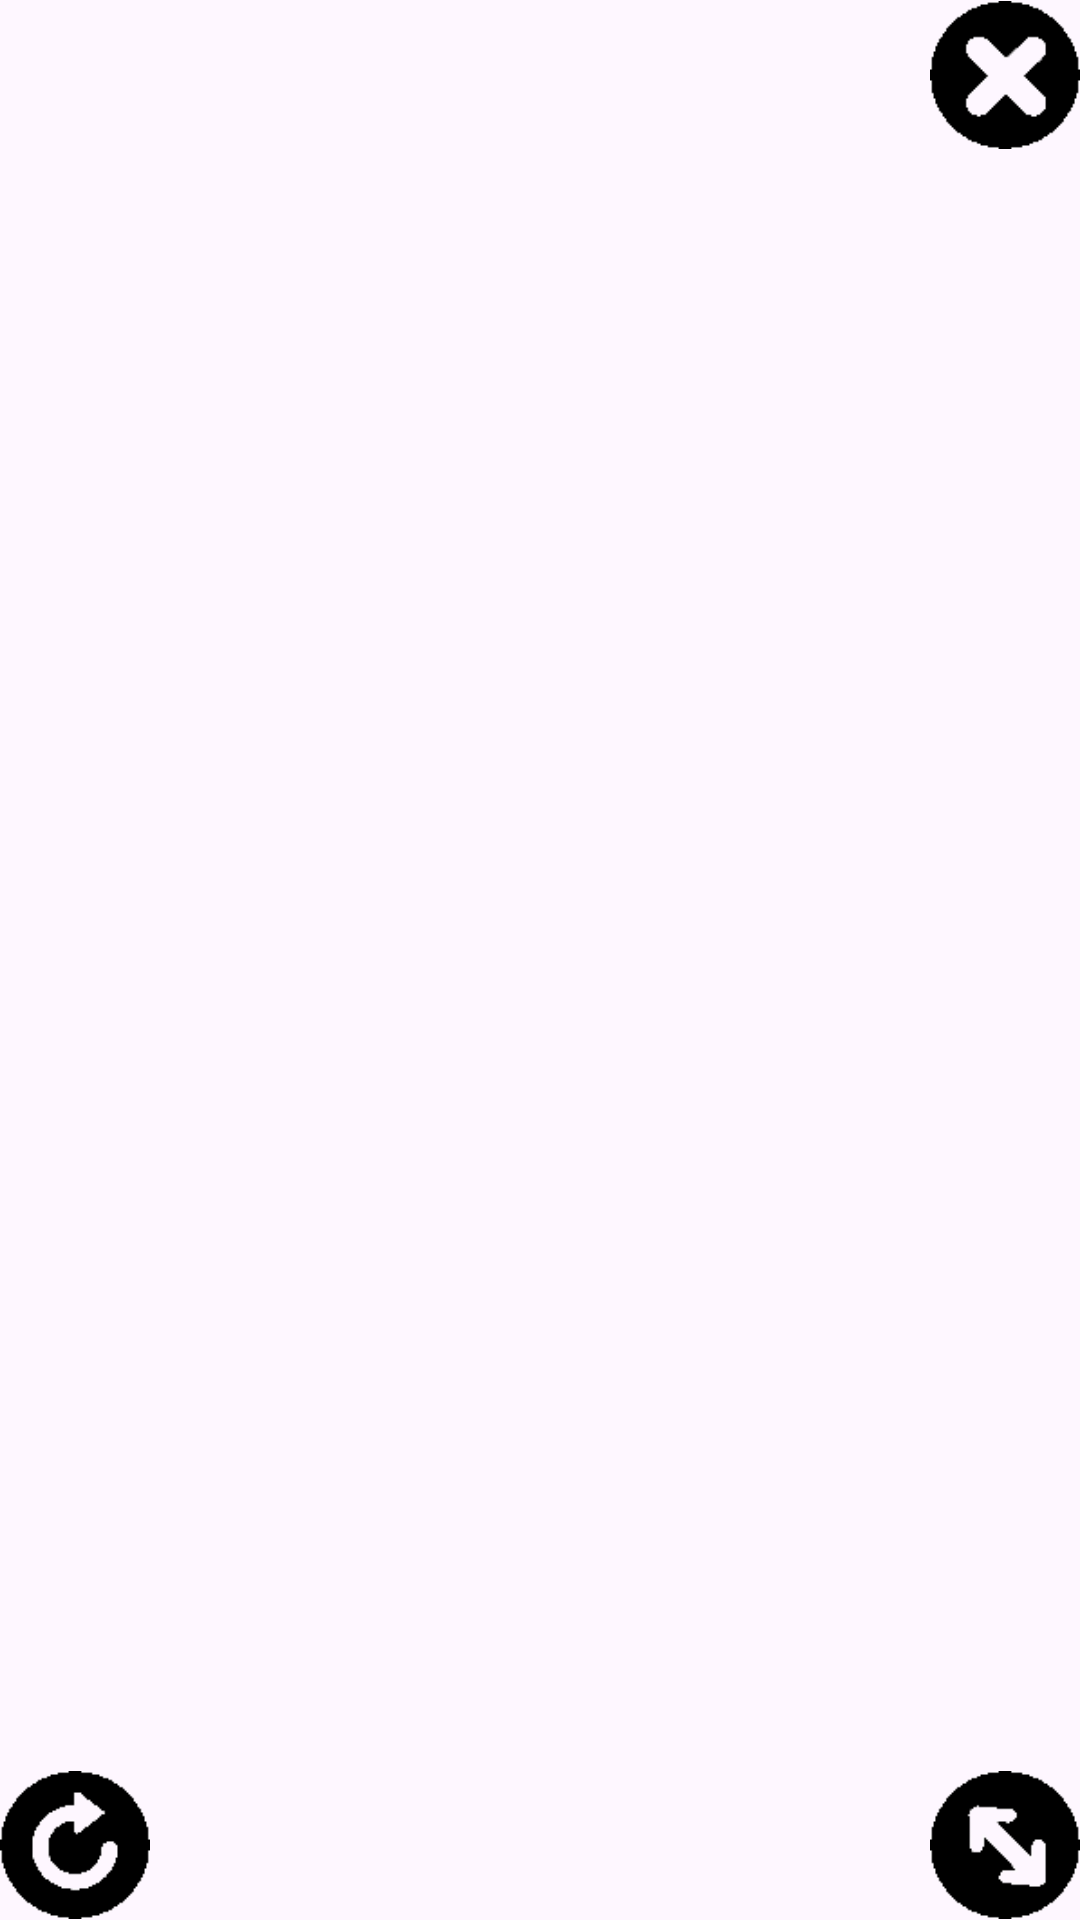

Locate icon controls on the screen. Image size 1080×1920, boxes as (x1, y1, x2, y2).
close: (930, 1, 1080, 149)
resize: (930, 1771, 1080, 1919)
rotate: (0, 1771, 150, 1919)
